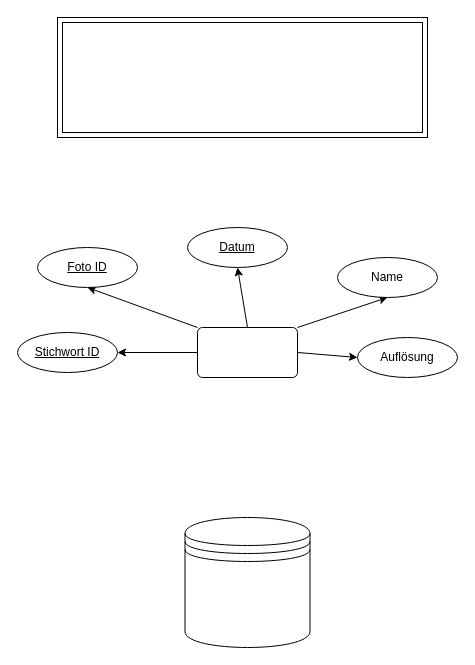
Some shapes in this 475 by 665 pixel diagram are drawn without their labels. Here are the shapes that lost their labels. From the top down, the box of each, then its label:
(56, 16, 428, 138): ERD/ERM
(196, 326, 298, 378): Fotos
(184, 516, 310, 648): DB Stichwörter
